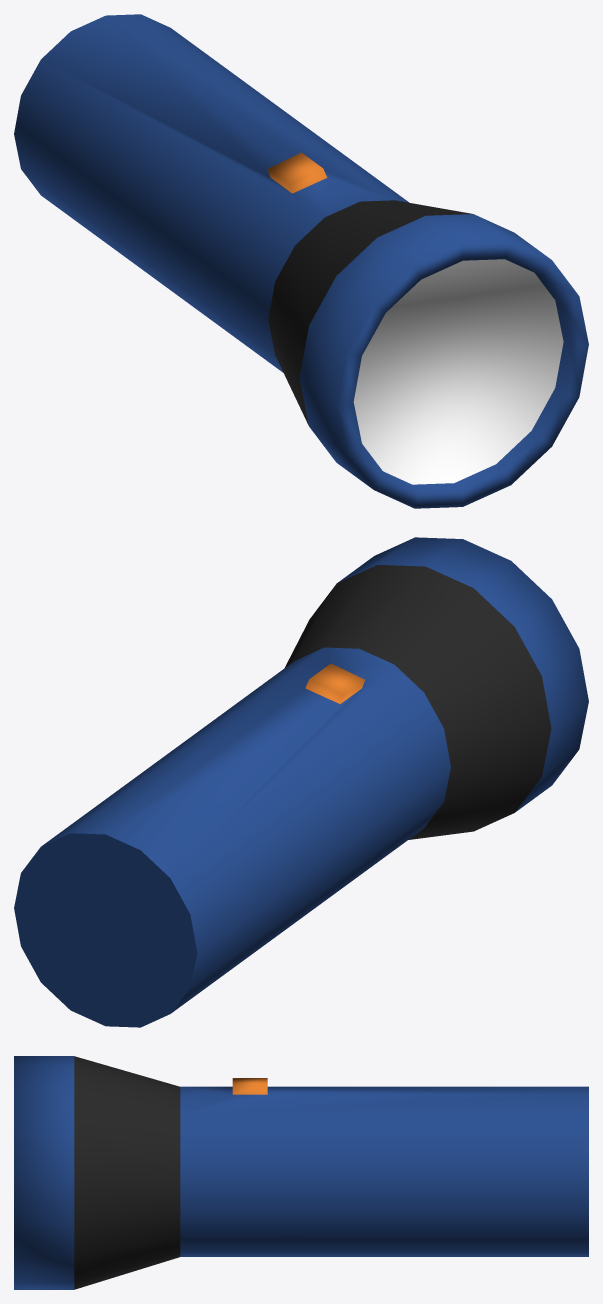
The model's file is lanterna.glb.
The picture shows the model from 3 angles, top to bottom: view 1: azimuth 30°, elevation 25°; view 2: azimuth 150°, elevation 25°; view 3: azimuth 270°, elevation 25°; orthographic projection. The views are drawn at different scales.
Visible parts, largest first — view 1: Circle; view 2: Circle; view 3: Circle.
Part boxes in pixels (box(x1,y1,x2,y2)): Circle: box(14, 14, 588, 508); Circle: box(14, 537, 588, 1027); Circle: box(14, 1056, 588, 1289).
Bounding box in the file's own units: 0.3518 × 0.3518 × 0.8648.
